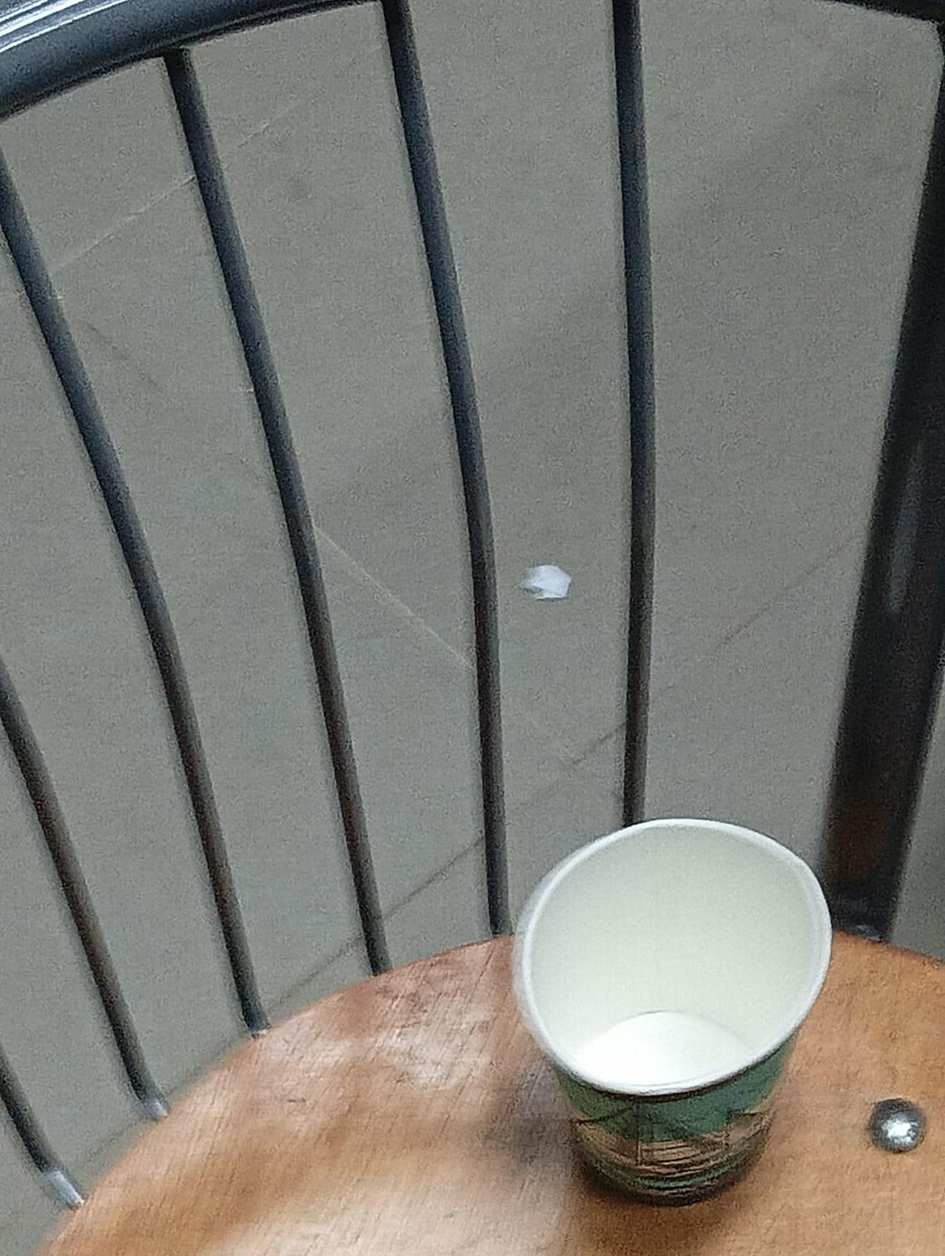cup: (513, 819, 830, 1203), (533, 831, 815, 1080)
